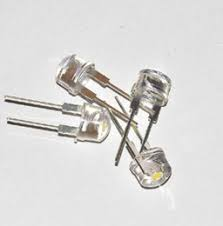LED: (1, 93, 107, 155), (127, 137, 177, 191), (129, 65, 179, 113), (47, 52, 95, 93)
